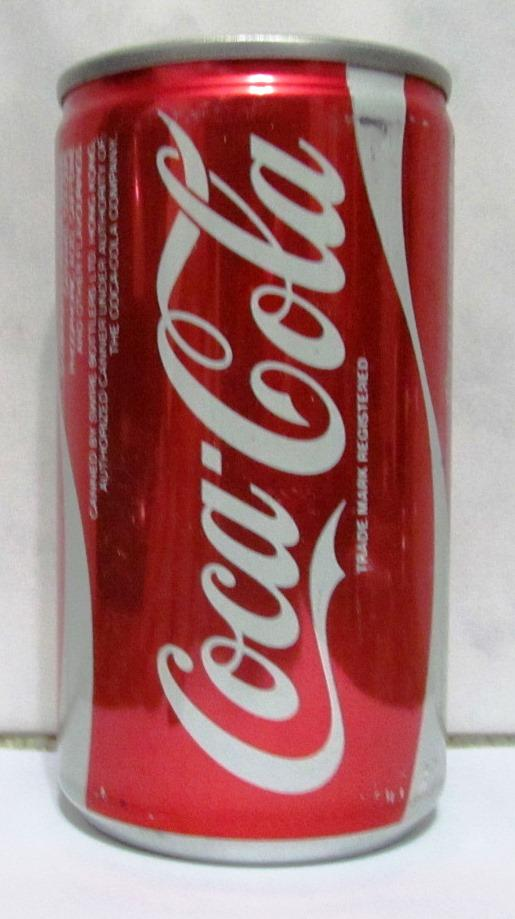metal: (56, 35, 452, 864)
